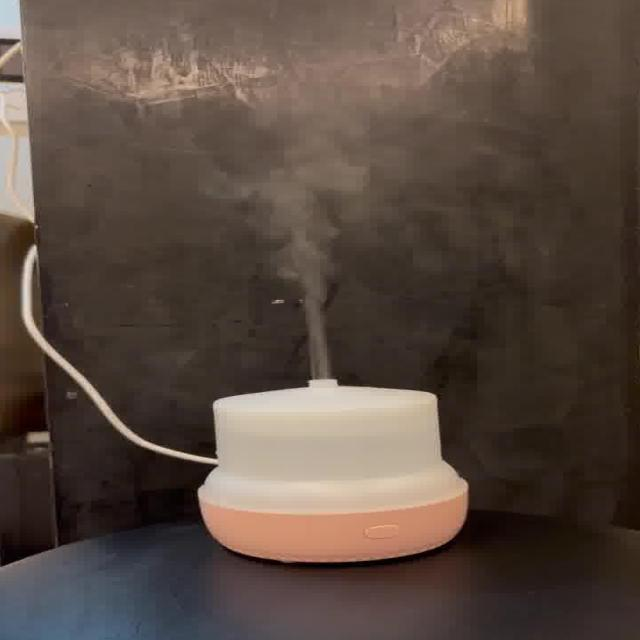fire: (199, 134, 374, 376)
